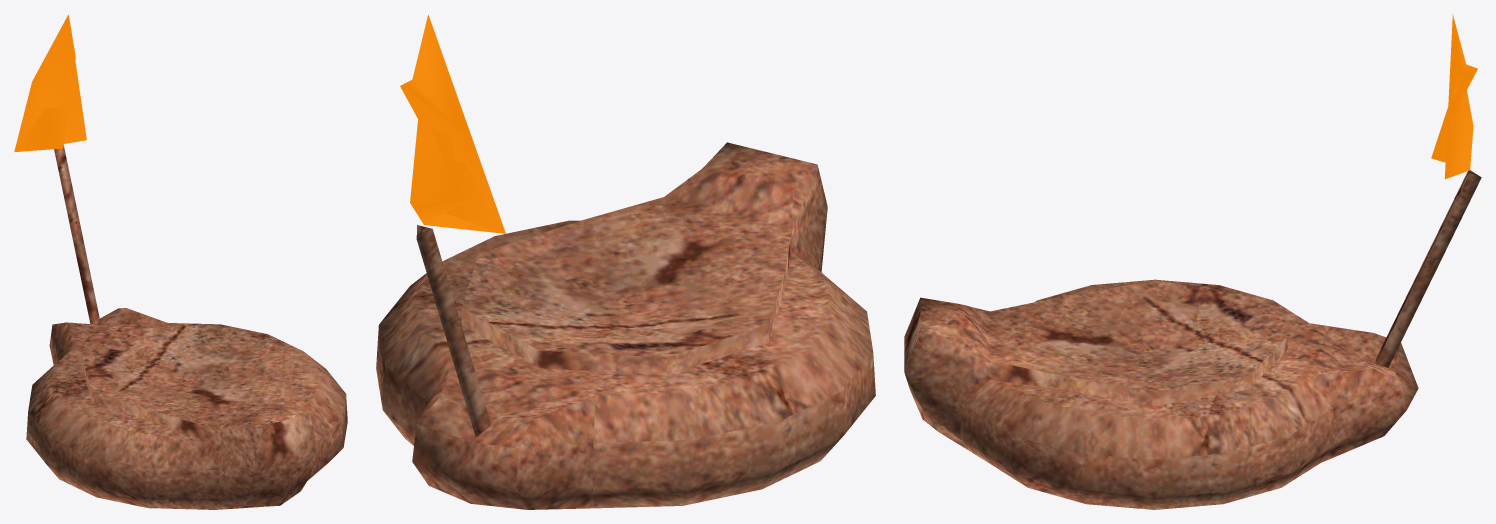
The model's file is OilCandle.gltf.
3 renders of one model, left to right at view 1: azimuth 30°, elevation 25°; view 2: azimuth 150°, elevation 25°; view 3: azimuth 270°, elevation 25°, orthographic. The views are drawn at different scales.
Visible parts, largest first — view 1: Lamp, Fire; view 2: Lamp, Fire; view 3: Lamp, Fire.
Part boxes in pixels (box(x1,y1,x2,y2)): Lamp: box(26, 145, 347, 509); Fire: box(14, 14, 86, 152); Lamp: box(376, 142, 875, 509); Fire: box(400, 14, 505, 233); Lamp: box(904, 170, 1481, 509); Fire: box(1431, 14, 1477, 179).
Bounding box in the file's own units: 0.3365 × 0.3946 × 0.4885.
2 materials, 1 textured.
